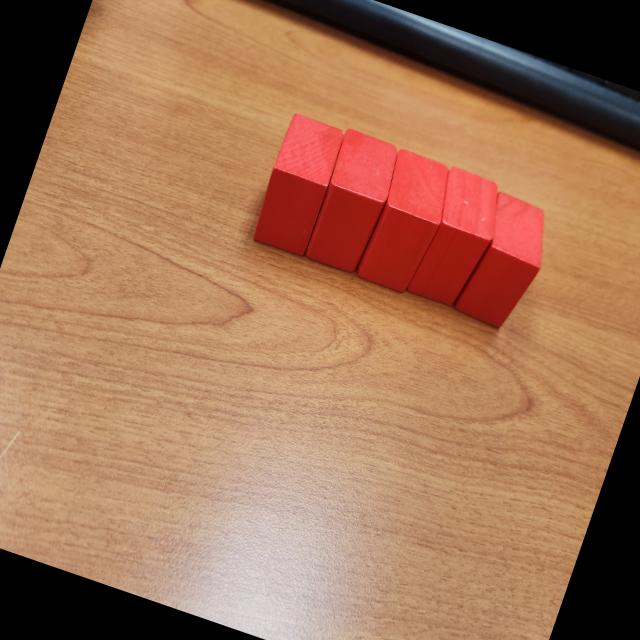red: (352, 145, 460, 297), (404, 163, 512, 312), (452, 188, 560, 334), (300, 126, 404, 276), (247, 110, 348, 258)
